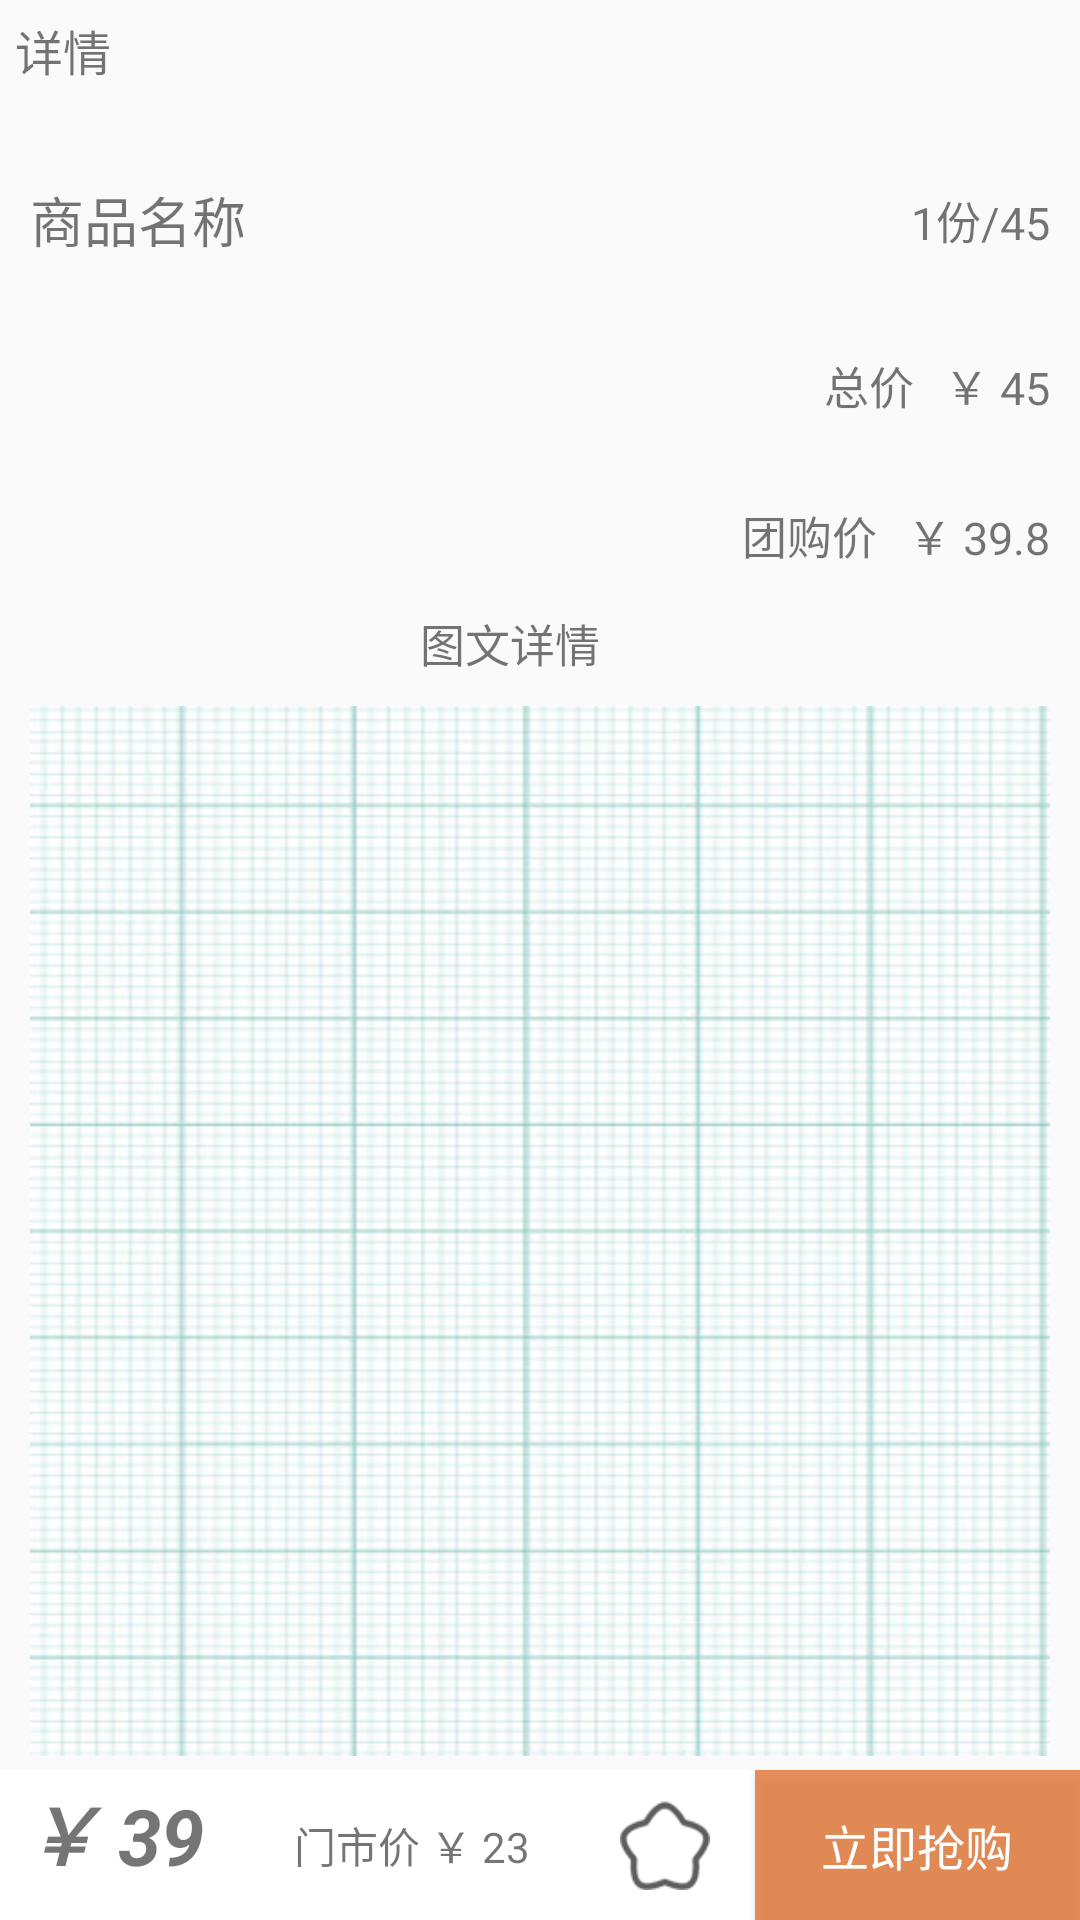

Where to tap for icons on this 1080px×1920px app screen, as [x,y]:
collect: [665,1845]
